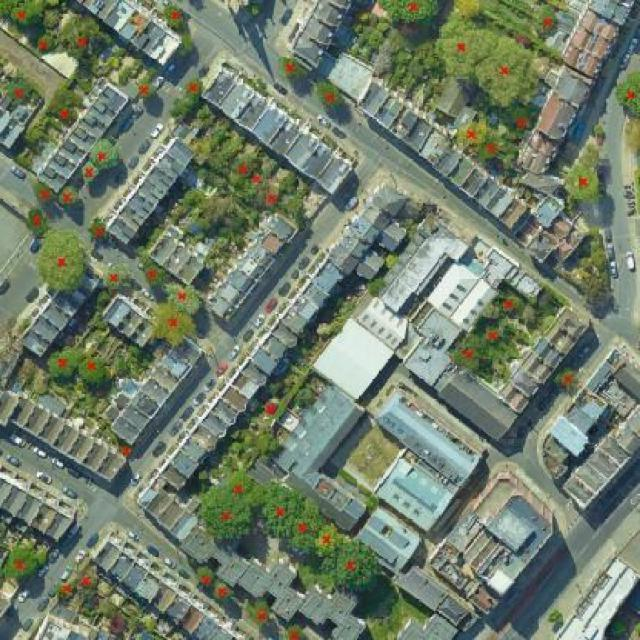tree: (469, 38, 549, 111), (186, 485, 260, 548), (28, 224, 90, 299), (424, 27, 505, 79), (318, 542, 384, 598), (277, 494, 332, 560), (557, 153, 608, 212), (55, 15, 109, 68), (37, 339, 97, 384), (365, 0, 451, 31), (150, 299, 198, 346), (574, 267, 617, 318), (0, 542, 48, 586), (471, 320, 520, 362), (255, 488, 293, 541), (443, 338, 488, 381), (217, 464, 265, 504), (306, 517, 352, 558), (96, 258, 139, 300), (163, 278, 208, 318), (608, 65, 640, 119), (529, 4, 568, 48), (240, 590, 277, 635), (498, 100, 541, 138), (310, 73, 348, 116), (82, 132, 127, 168), (7, 0, 52, 36), (174, 68, 208, 114), (83, 346, 114, 395), (547, 363, 585, 402), (481, 124, 512, 168), (3, 73, 39, 110), (158, 0, 191, 40), (457, 110, 486, 155), (242, 159, 270, 204), (137, 254, 174, 288), (250, 425, 284, 461), (52, 178, 85, 213), (229, 142, 256, 184), (48, 574, 81, 608), (209, 571, 237, 609), (278, 606, 309, 640), (617, 116, 640, 161), (264, 174, 285, 223), (189, 557, 217, 592), (492, 296, 533, 318), (585, 116, 610, 152), (128, 72, 157, 103), (77, 555, 103, 589), (52, 98, 79, 130), (279, 53, 306, 84), (88, 212, 111, 246), (74, 162, 106, 186), (29, 35, 57, 61), (24, 206, 44, 234), (31, 177, 52, 201), (547, 607, 562, 624)
